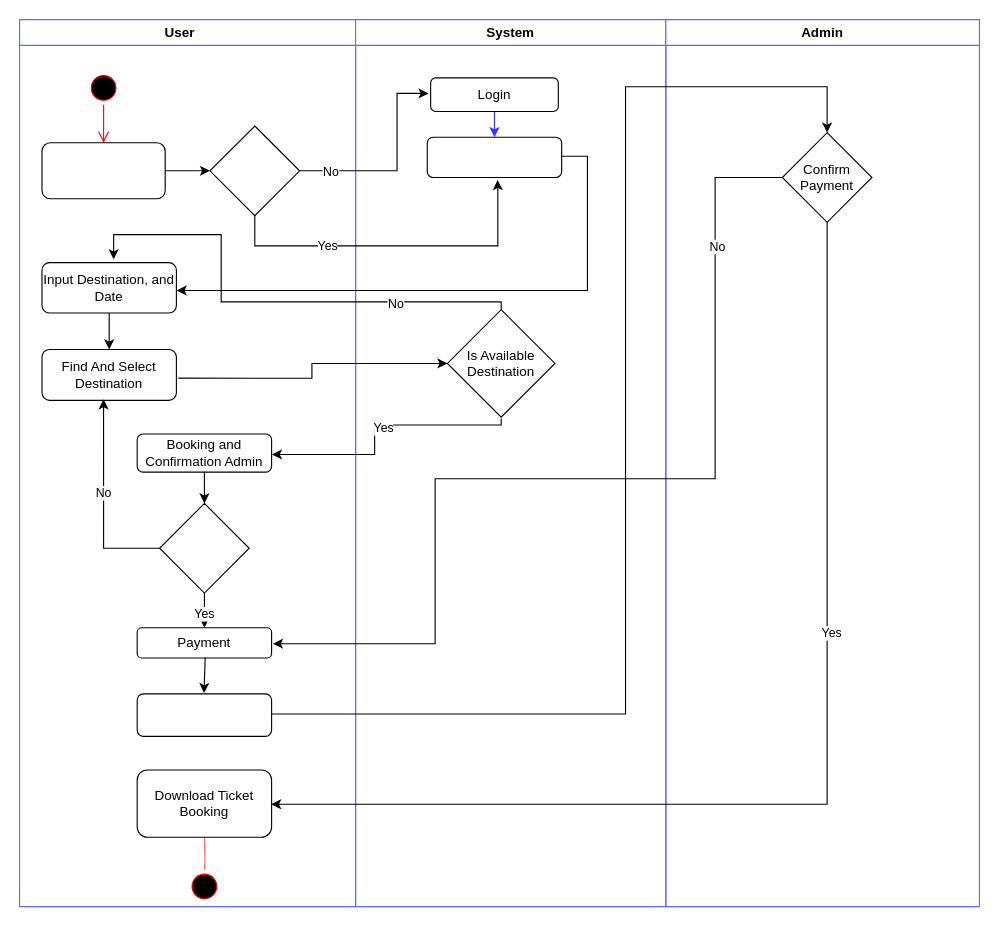
Some shapes in this 999 by 926 pixel diagram are drawn without their labels. Here are the shapes that lost their labels. From the top down, the centre of each, then its label:
the point at 103,170: Access Website
the point at 254,170: Is Login
the point at 494,157: Show Destination
the point at 203,547: Is Confirm
the point at 204,714: Upload Payment Receipt
